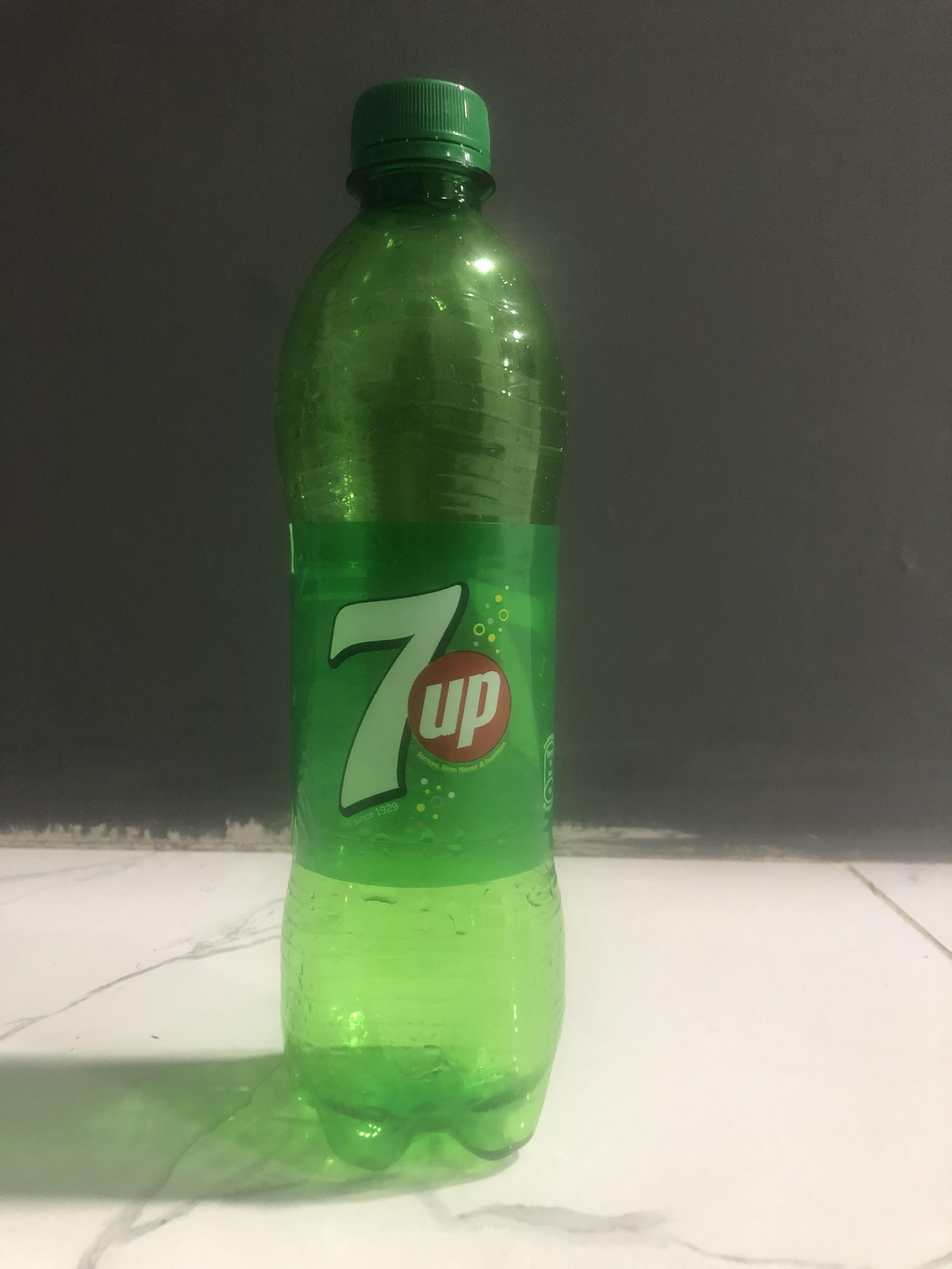bottle-plastic: (271, 69, 580, 1175)
